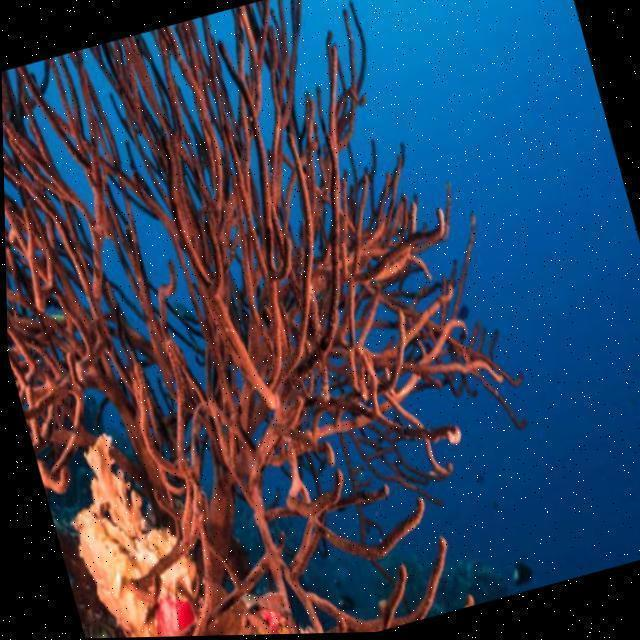Healthy Coral: (1, 23, 535, 640)
